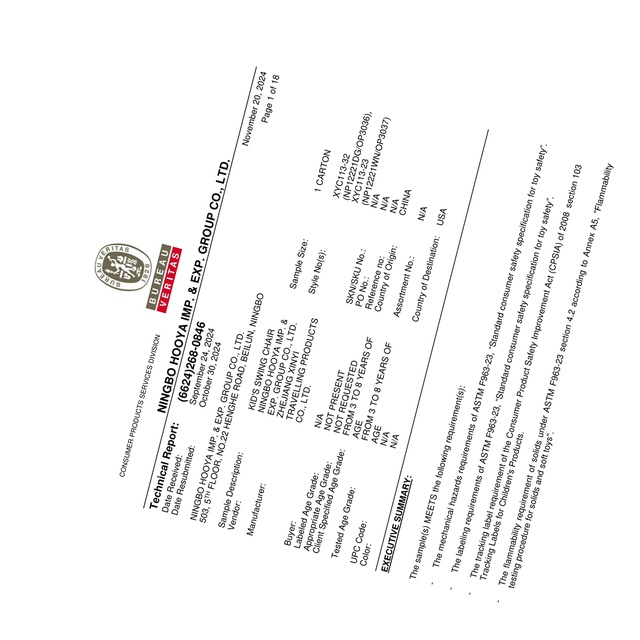bureau_veritas: (94, 241, 182, 314)
